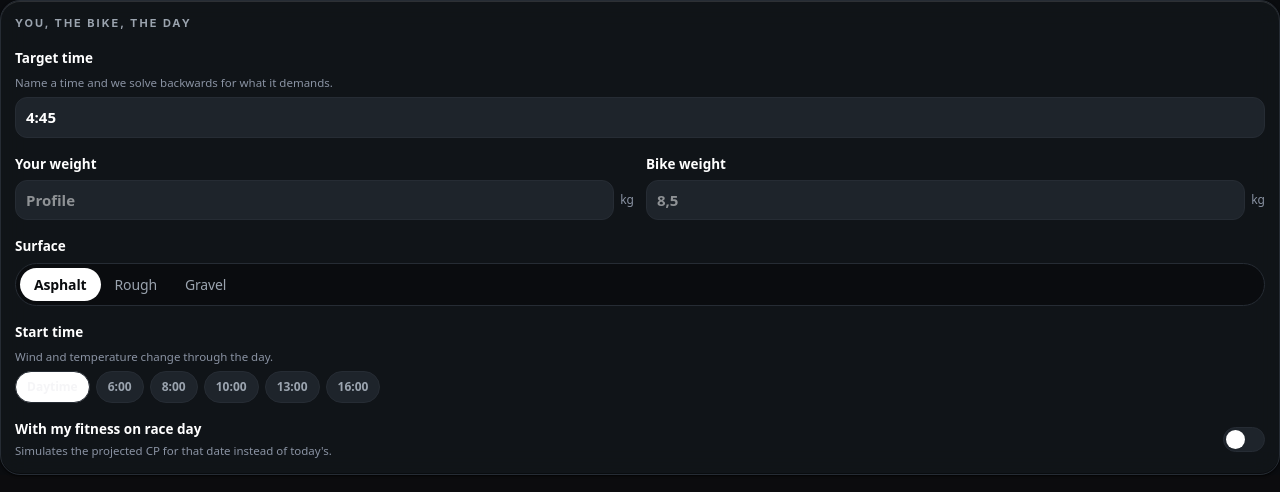
RiderKnobs — target time › reverts unparseable text instead of sending nonsense
Replace the text in the field named "target time" with "soon": (640, 117) [15,97,1265,138]
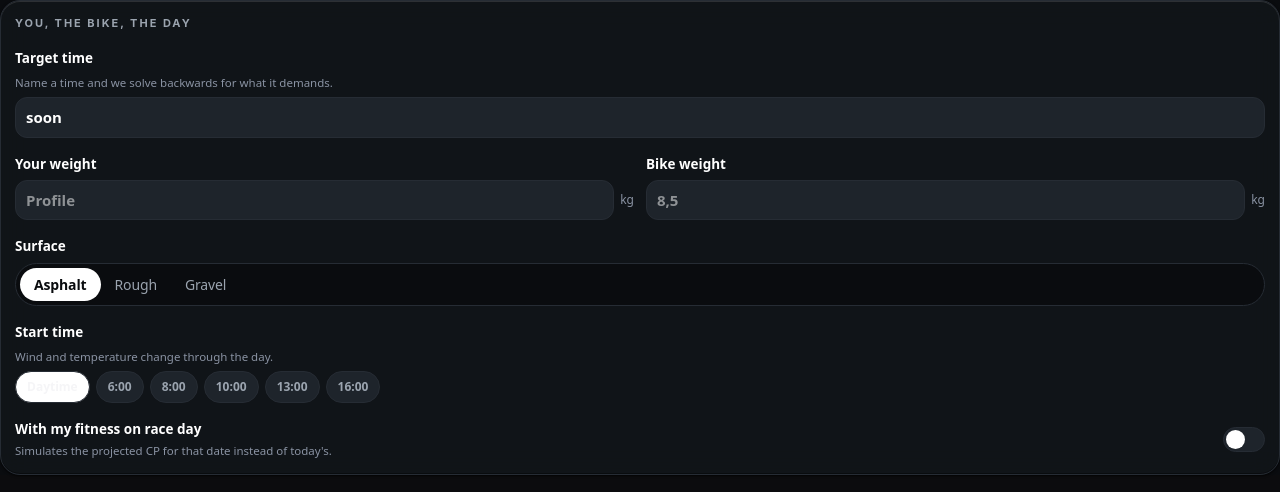
Leave the field named "target time", box [15,97,1265,138]
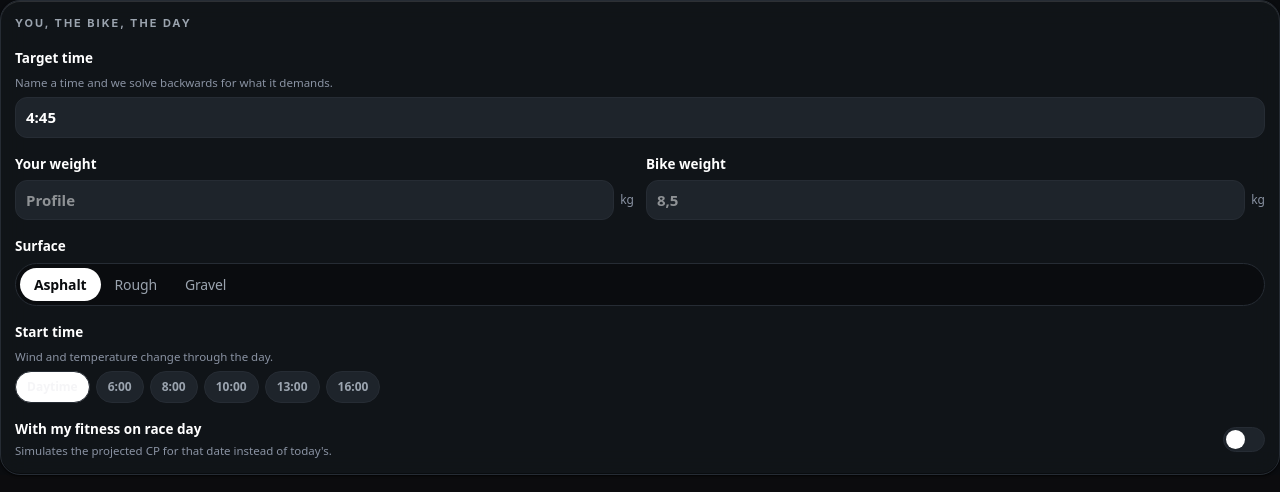
Expected: the field named "target time" holds "4:45", [15,97,1265,138]
